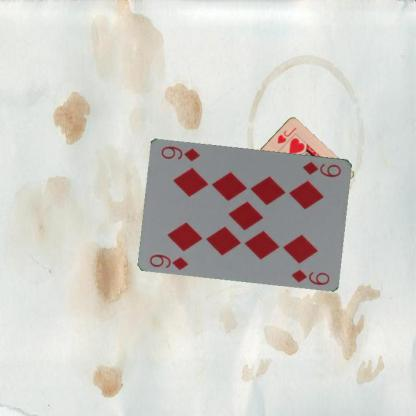9d: (147, 251, 190, 271), (300, 159, 342, 178)
Jh: (274, 124, 298, 145)
